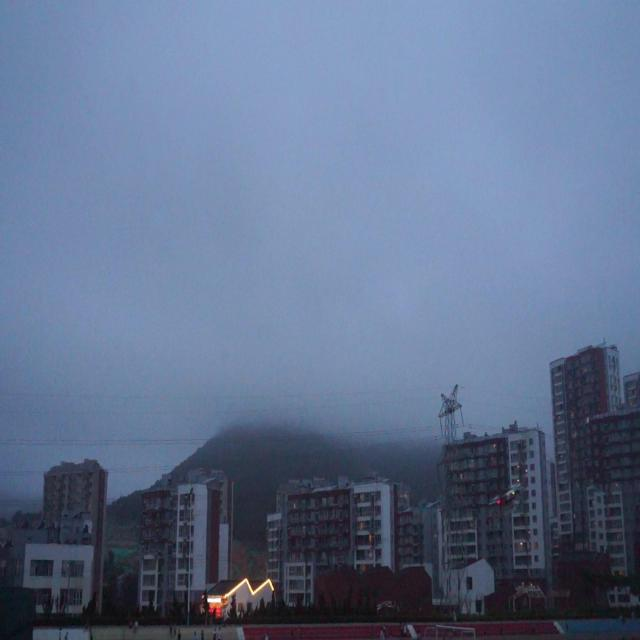drone: (485, 480, 521, 516)
